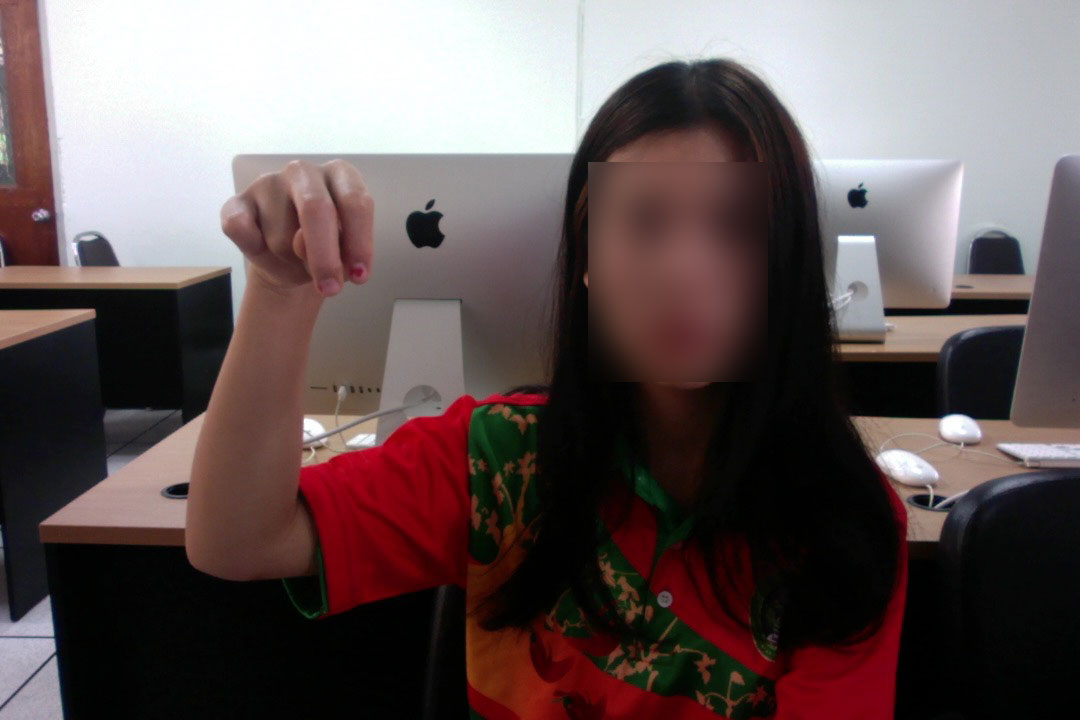nor: (214, 157, 384, 318)
